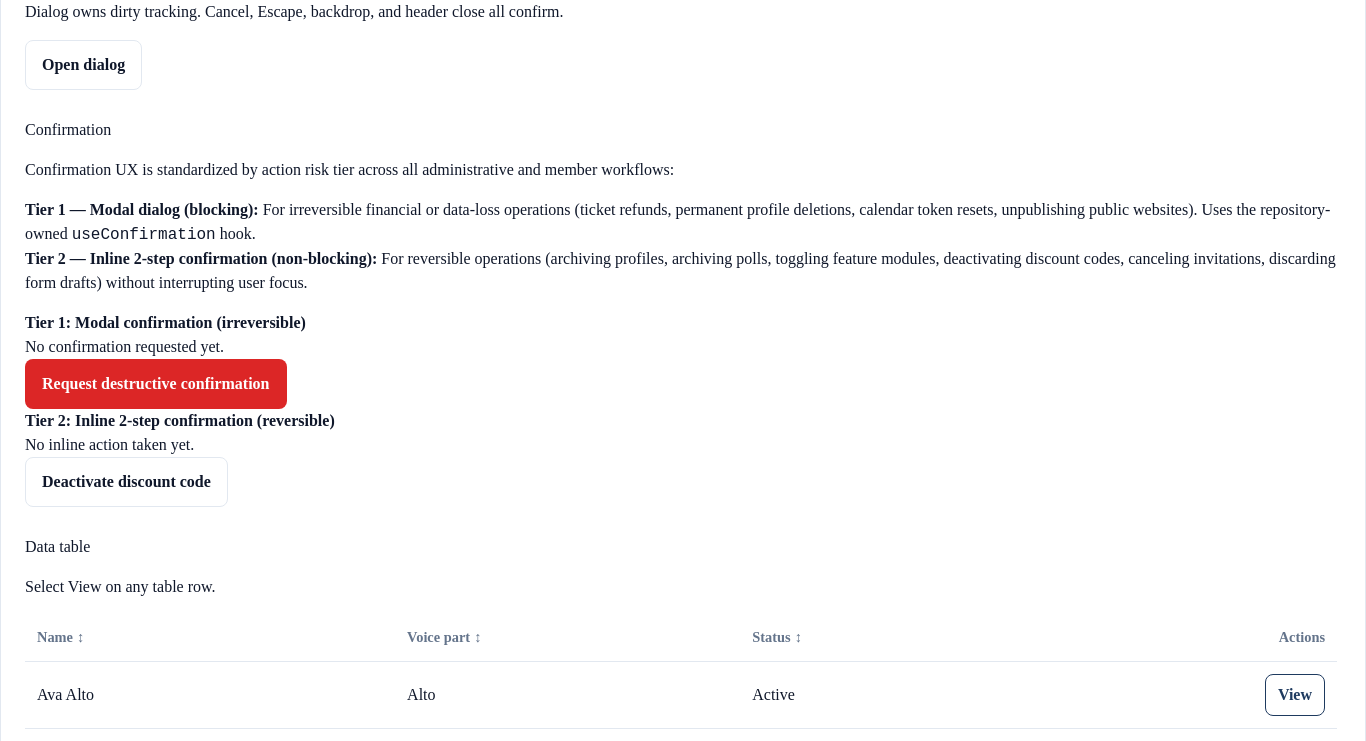
DesignSystemView tiered confirmation UX › handles Tier 1 modal confirmation with confirm and cancel flows
(page scrolled)
Click the button "Request destructive confirmation".
click(156, 384)  # box left=25, top=359, right=286, bottom=409
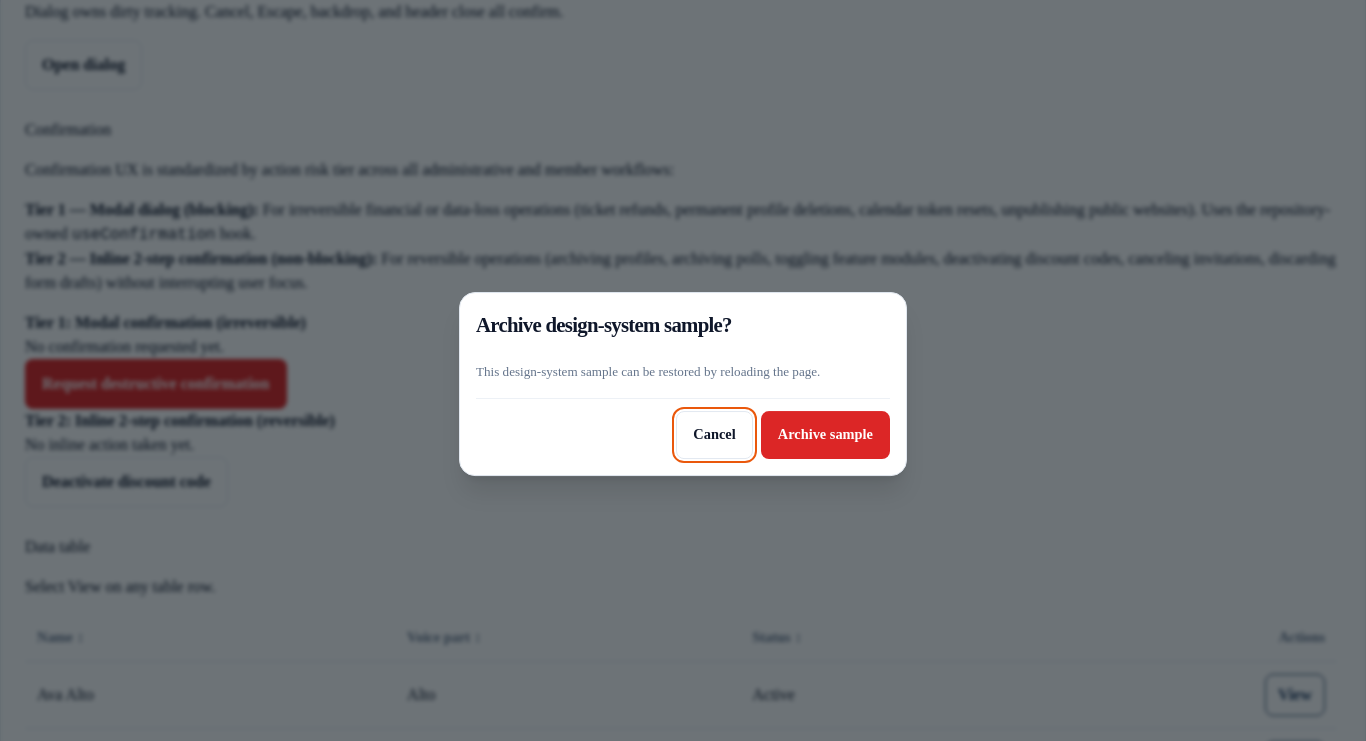
expect the dialog is shown: met, box left=459, top=292, right=907, bottom=476
expect the heading "Archive design-system sample?" is shown: met, box left=476, top=309, right=732, bottom=340
Cancel flow
Click the button "Cancel".
click(715, 435)  # box left=676, top=411, right=753, bottom=459
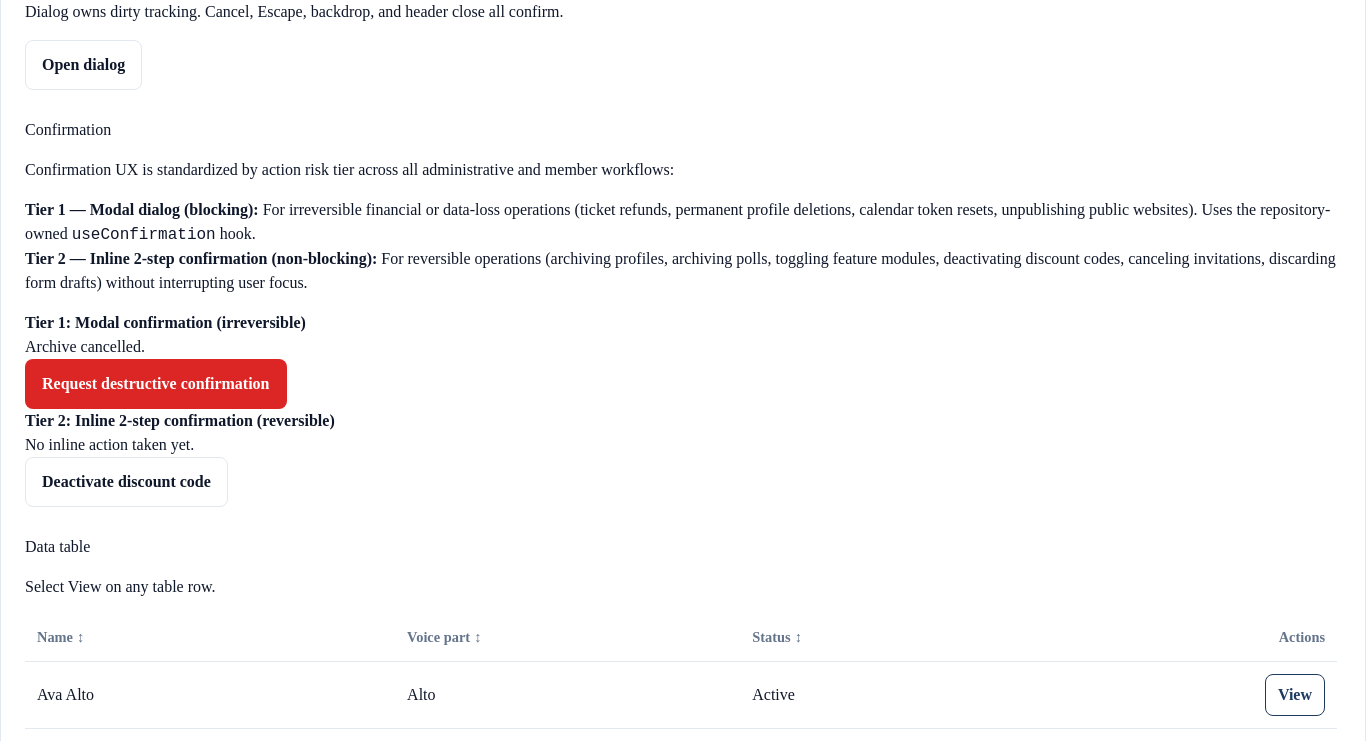
expect the dialog is gone: met
expect the text "Archive cancelled." is shown: met, box left=25, top=338, right=145, bottom=355
Confirm flow
Click the button "Request destructive confirmation".
click(156, 384)  # box left=25, top=359, right=286, bottom=409
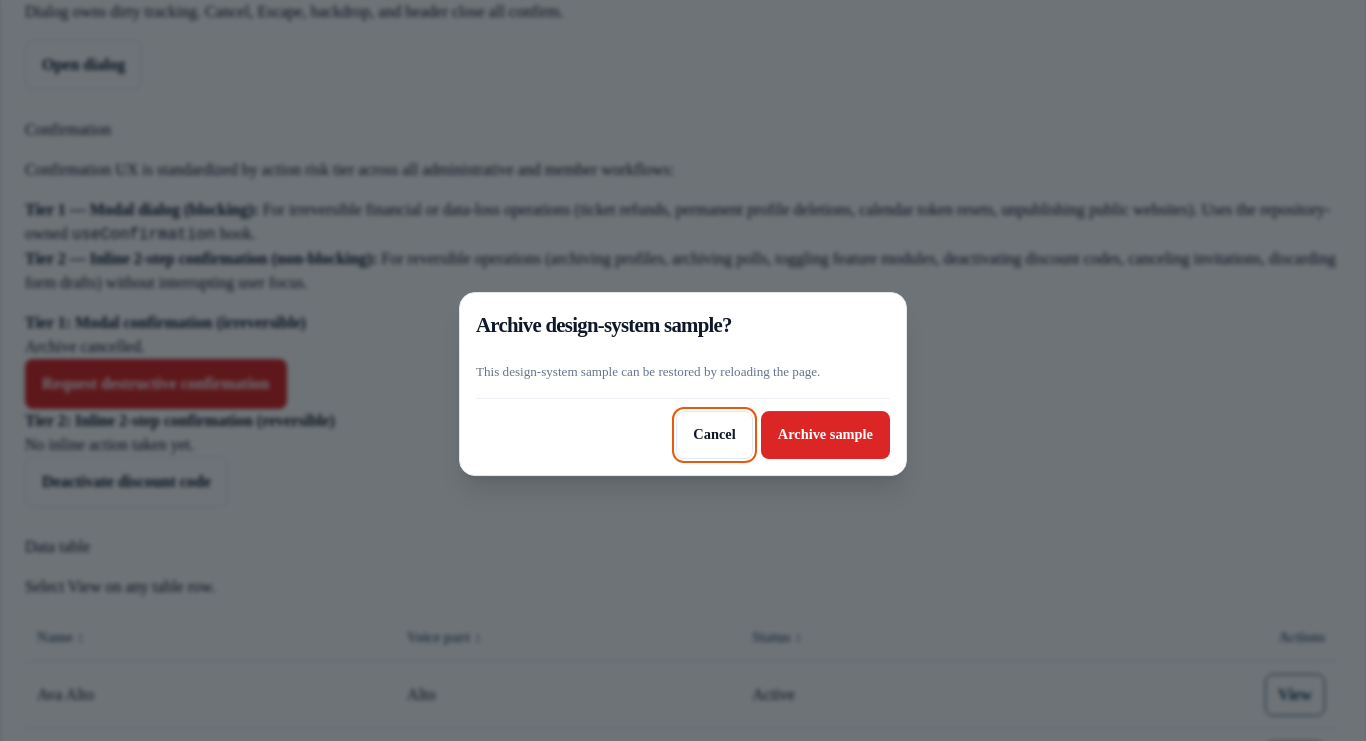
Click the button "Archive sample".
click(825, 435)  # box left=761, top=411, right=890, bottom=459
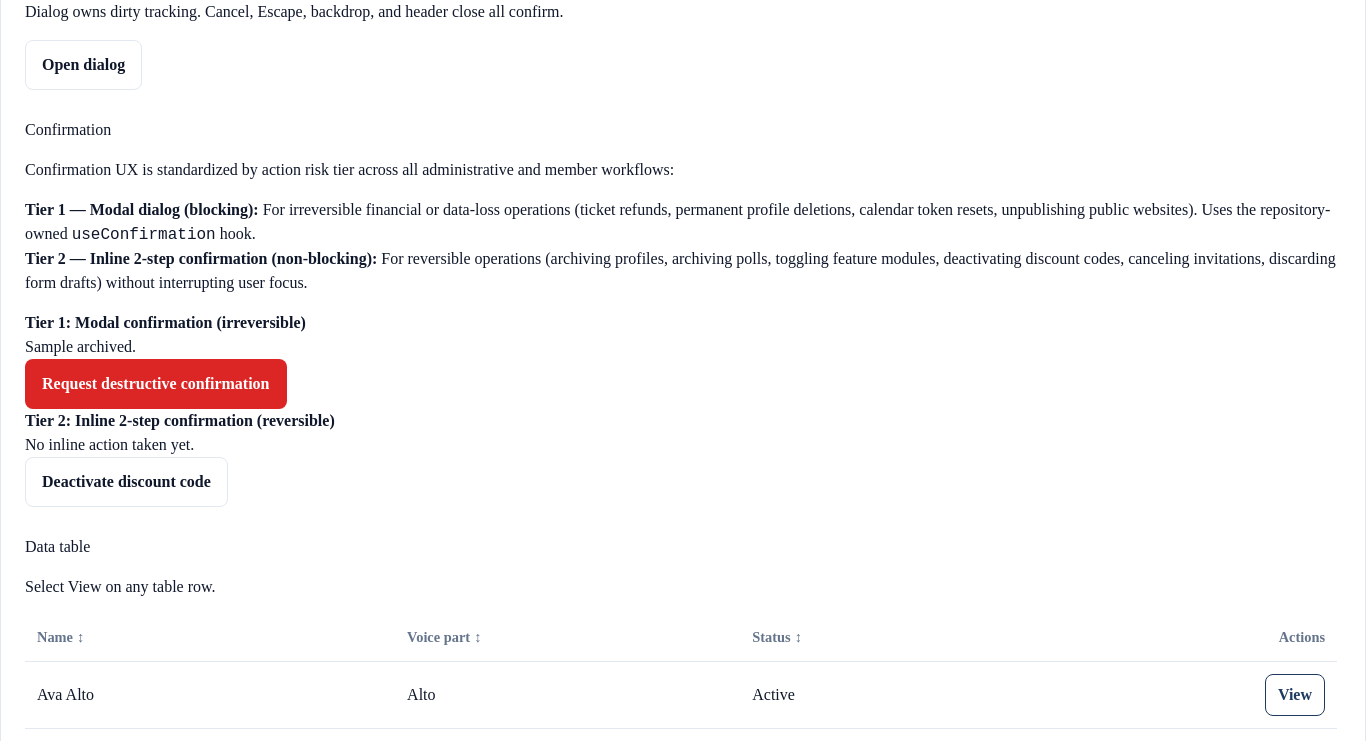
expect the dialog is gone: met
expect the text "Sample archived." is shown: met, box left=25, top=338, right=136, bottom=355
